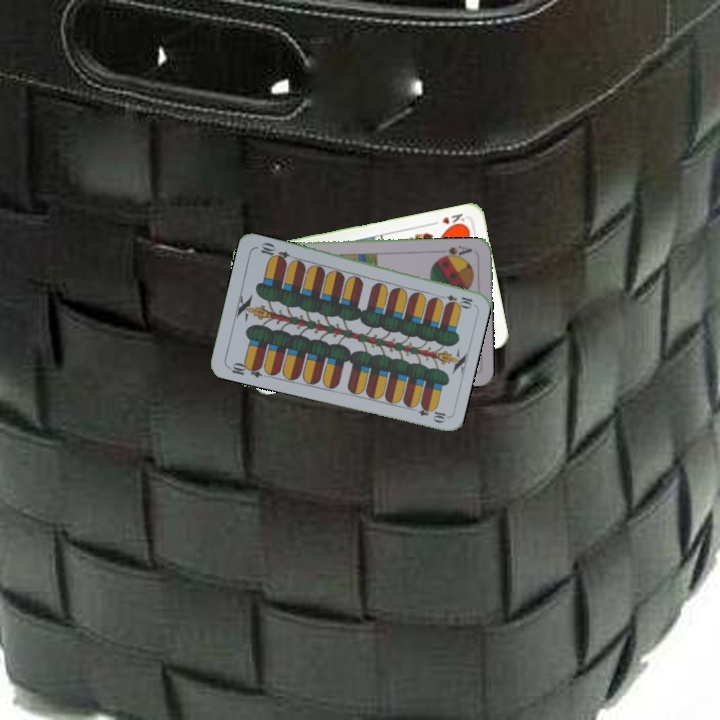E10: (224, 358, 264, 380), (434, 290, 475, 309)
HK: (428, 209, 468, 231)
SA: (436, 241, 474, 261)
